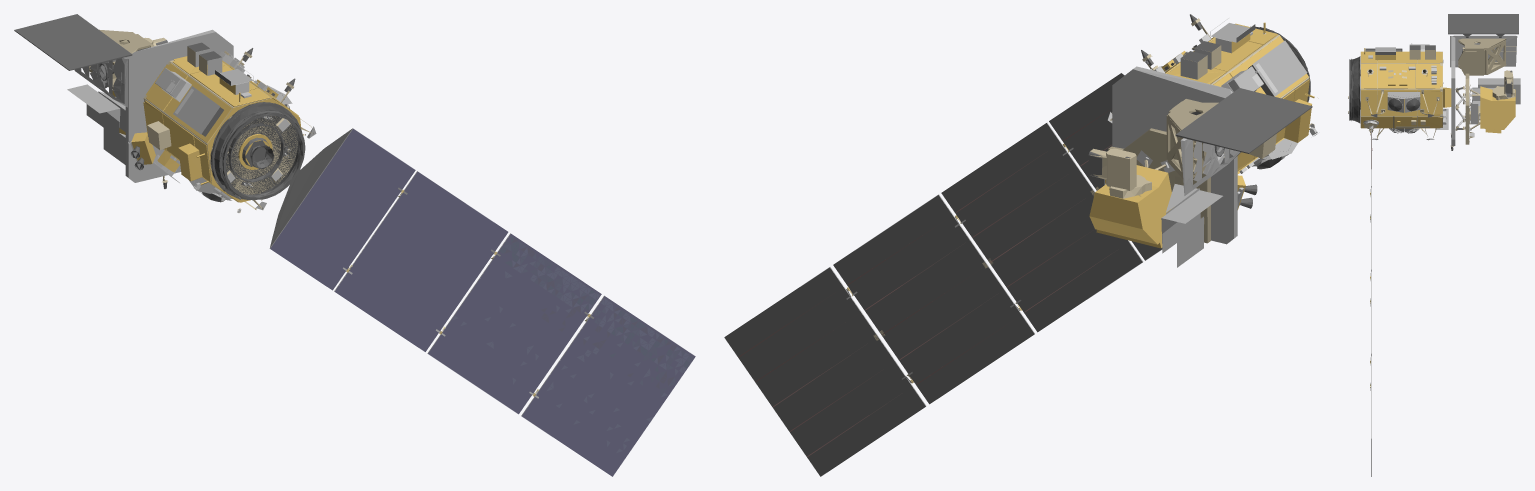
The model's file is landsat-8.glb.
The picture shows the model from 3 angles, left to right: view 1: azimuth 30°, elevation 25°; view 2: azimuth 150°, elevation 25°; view 3: azimuth 270°, elevation 25°; orthographic projection. The views are drawn at different scales.
Parts seen in each view (by area): view 1: Layer_0; view 2: Layer_0; view 3: Layer_0.
Boxes of the visible parts, left/top/right/bottom form: Layer_0: left=14, top=14, right=695, bottom=476; Layer_0: left=724, top=14, right=1317, bottom=476; Layer_0: left=1348, top=14, right=1520, bottom=476.
Bounding box in the file's own units: 1 × 0.8187 × 0.4071.
